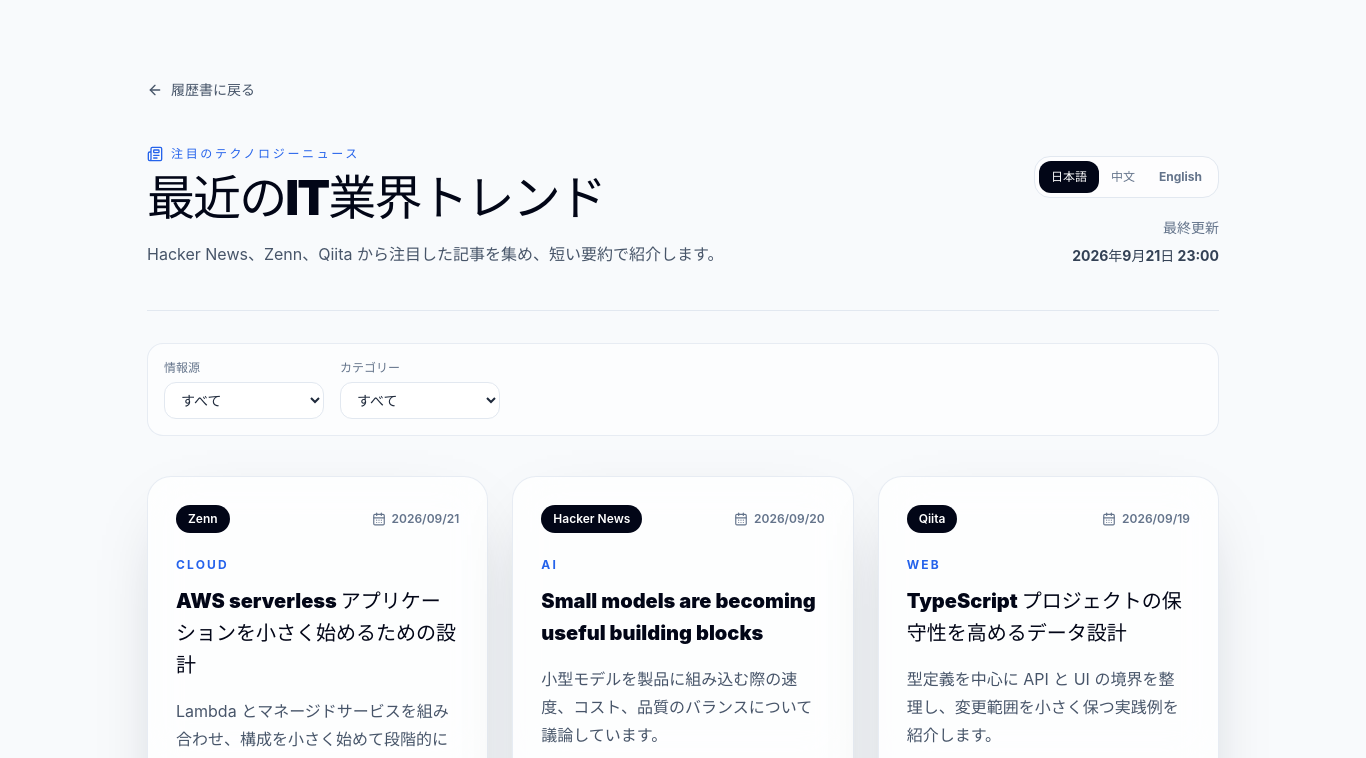
TrendsPage › filters articles by source and category
Select "Qiita" in the dropdown labelled "情報源". click: (244, 400)
box: [164, 382, 324, 419]
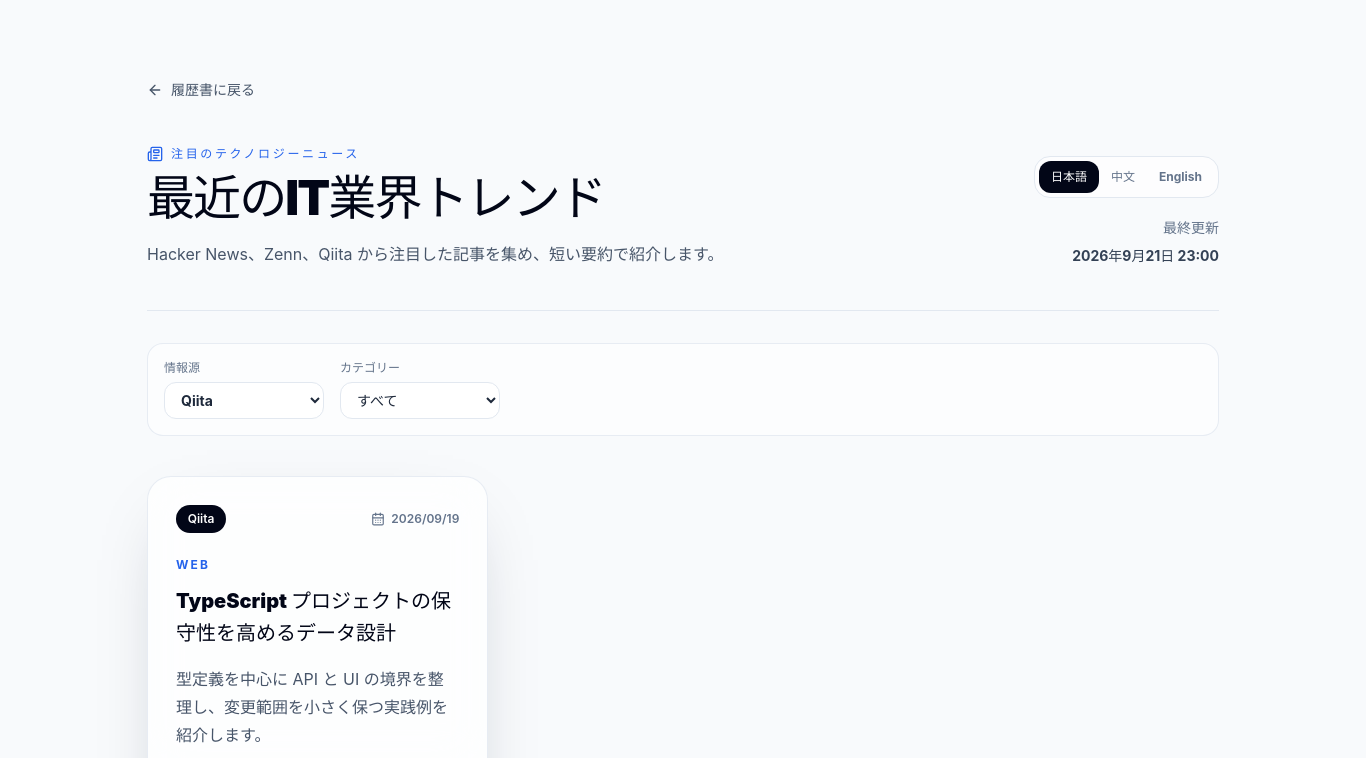
Expected: the heading "TypeScript プロジェクトの保守性を高めるデータ設計" is shown, [176, 585, 459, 649]
Expected: the heading "Small models are becoming useful building blocks" is gone
Select "AI" in the dropdown labelled "カテゴリー". click: (420, 400)
box: [340, 382, 500, 419]
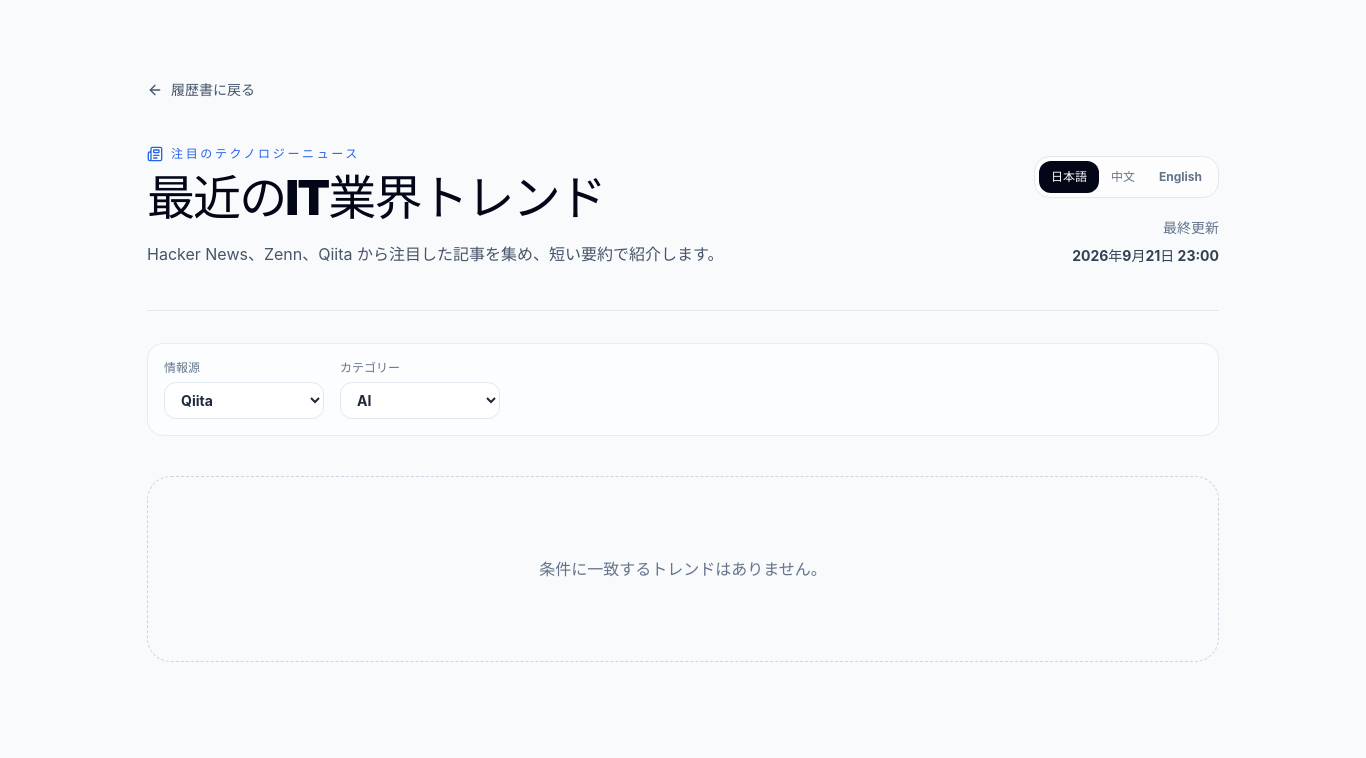
Expected: the text "条件に一致するトレンドはありません。" is shown, [147, 476, 1219, 662]
